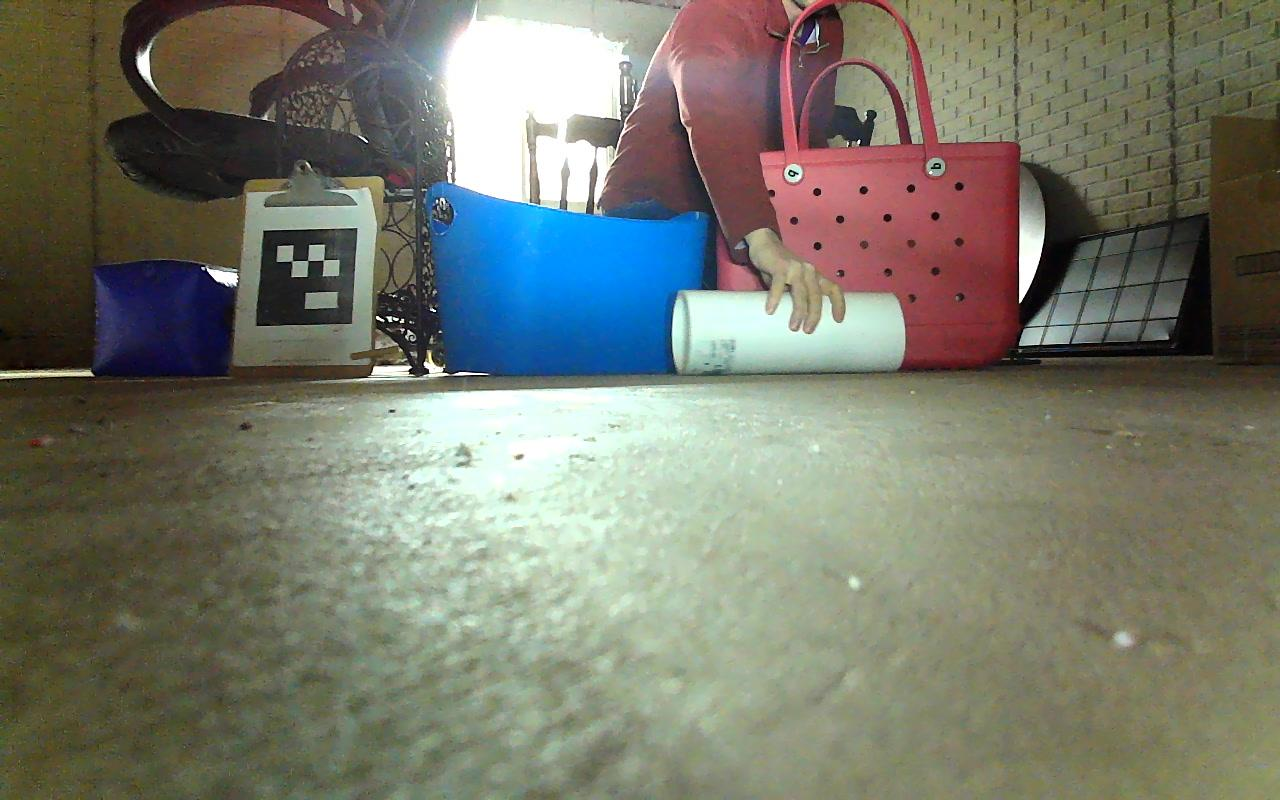coral: (672, 289, 906, 373)
